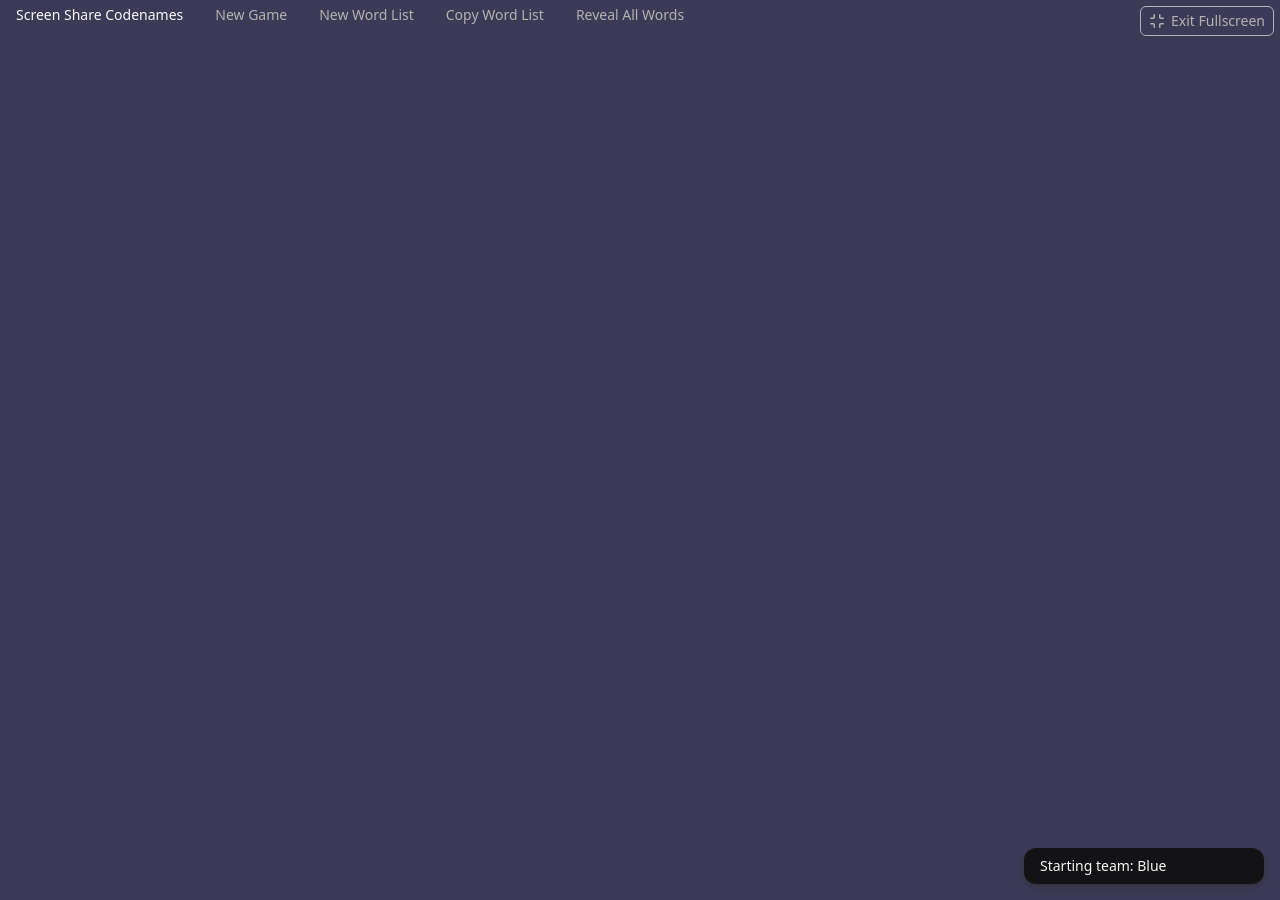
Test: clicking new game shows new game dialog
Click the button "New Game". click: [251, 15]
box: [199,0,303,30]
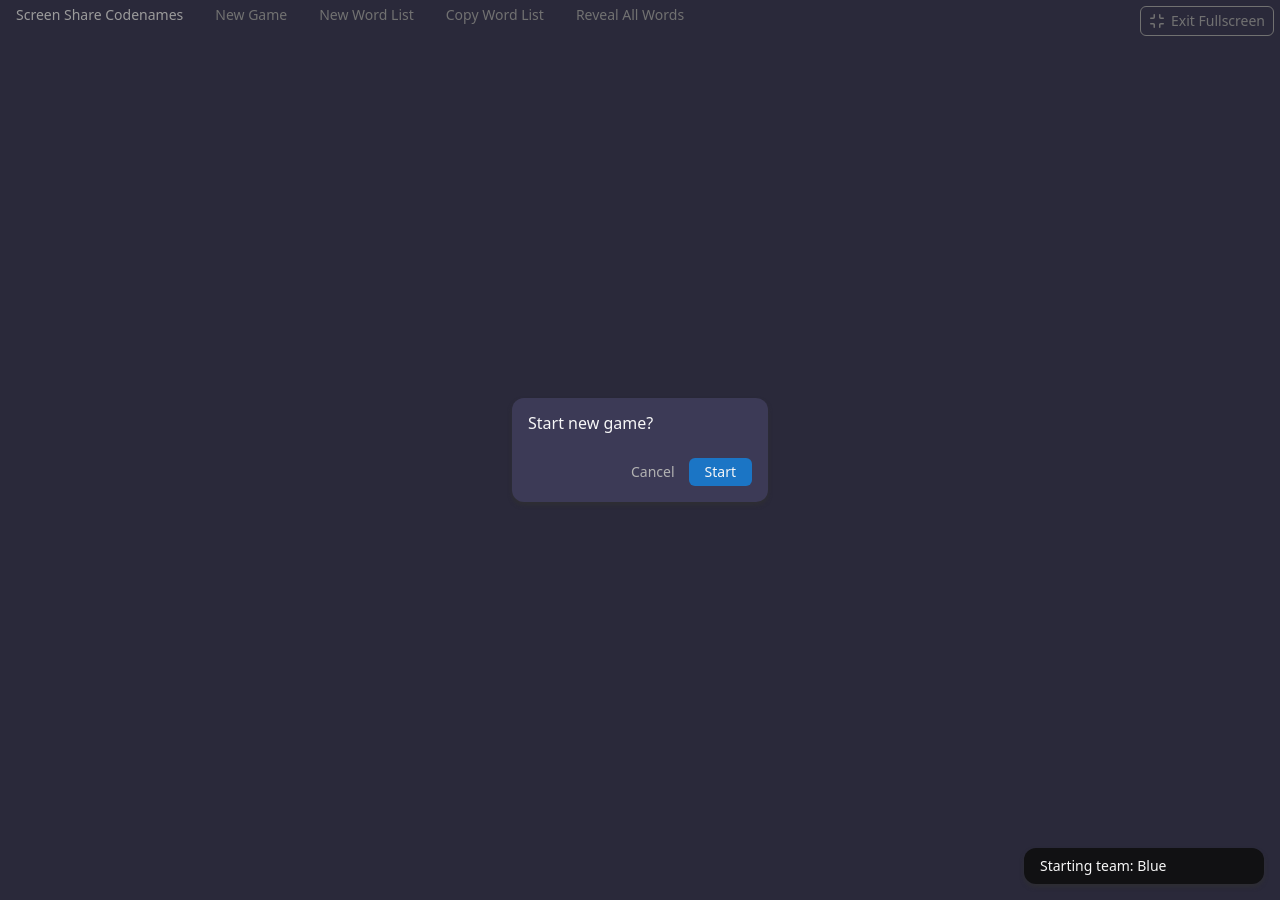
Result: the dialog shows "Start new game?" at [528,412,653,434]
